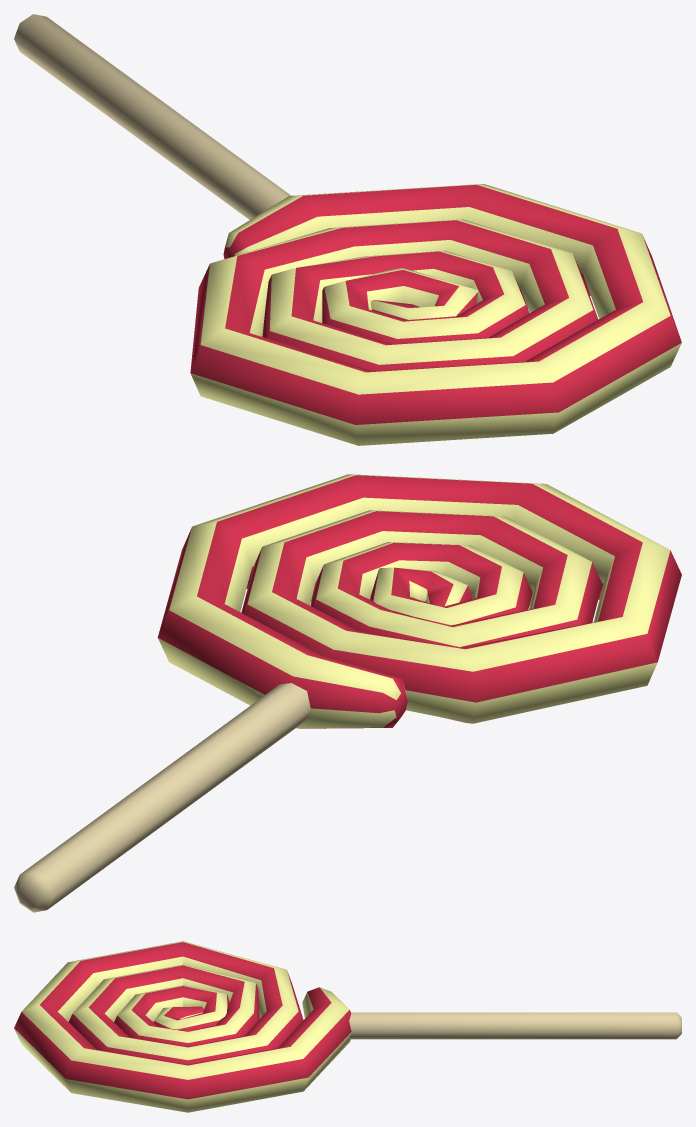
The model's file is TrashLollyPOP.fbx.
The picture shows the model from 3 angles, top to bottom: view 1: azimuth 30°, elevation 25°; view 2: azimuth 150°, elevation 25°; view 3: azimuth 270°, elevation 25°; orthographic projection. The views are drawn at different scales.
Parts seen in each view (by area): view 1: LollyPOP; view 2: LollyPOP; view 3: LollyPOP.
Part boxes in pixels (left/top/right/bottom): LollyPOP: left=14, top=14, right=681, bottom=445; LollyPOP: left=14, top=474, right=681, bottom=912; LollyPOP: left=14, top=941, right=681, bottom=1112.
Size of the model in its own units: 0.4153 by 0.0619 by 0.8082.
